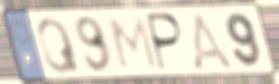9: (73, 14, 117, 75), (224, 10, 263, 70)
A: (191, 10, 238, 72)
M: (106, 15, 160, 71)
P: (146, 11, 186, 74)
Q: (35, 16, 84, 76)
